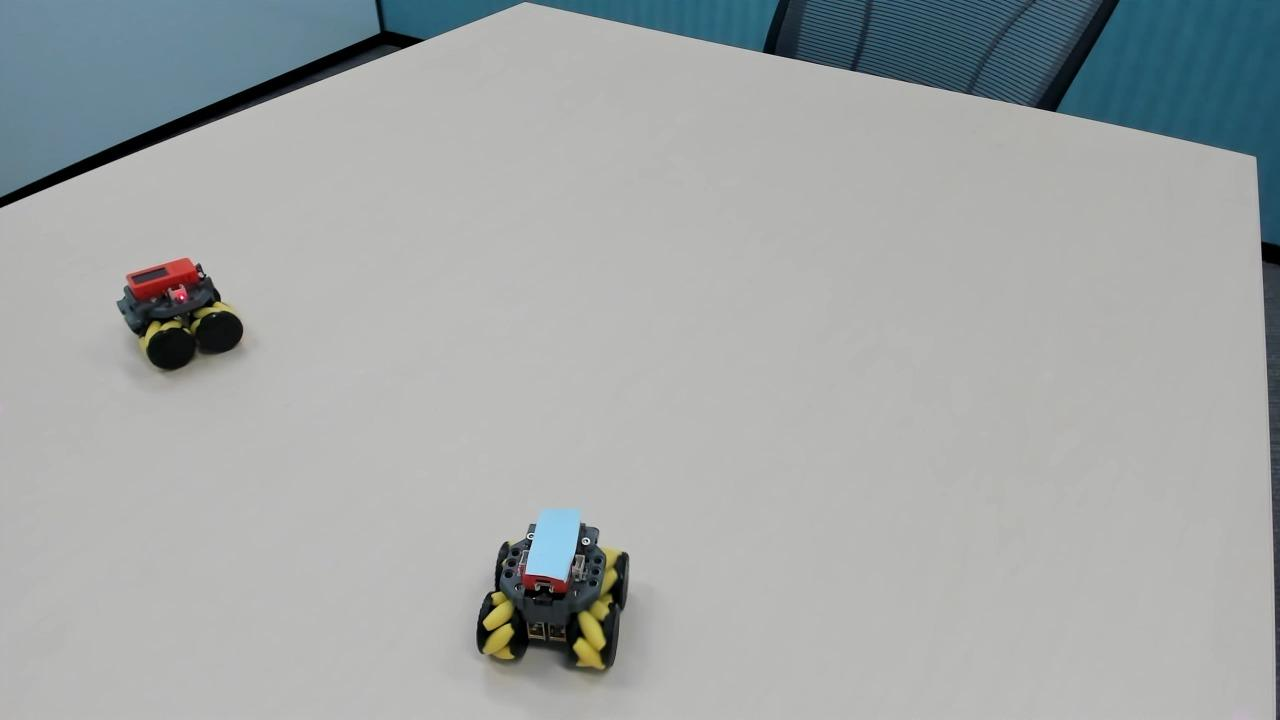B-Robot: (462, 493, 648, 684)
R-Robot: (99, 241, 258, 379)
